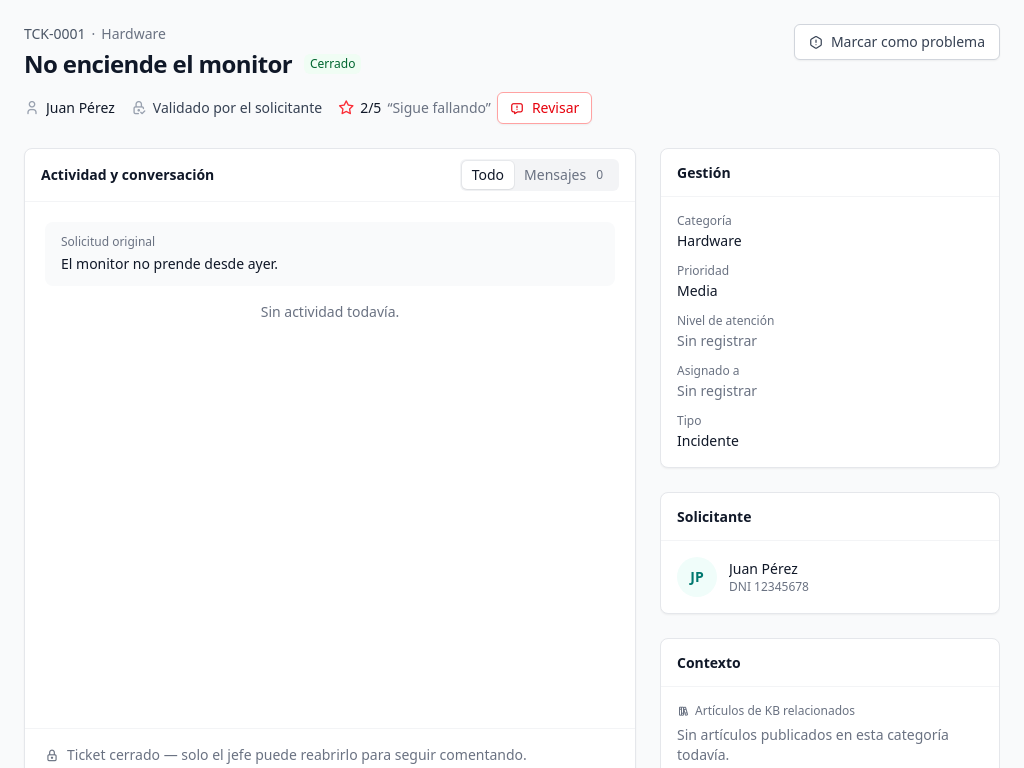
Test: TicketDetalleView.vue — botones migrados a AppButton (Fase 2) › calificación 2/5 sin revisar: «Revisar» abre el diálogo y reabre el ticket con la nota
Click the button "Revisar".
click(545, 108)  # box [497,92,592,124]
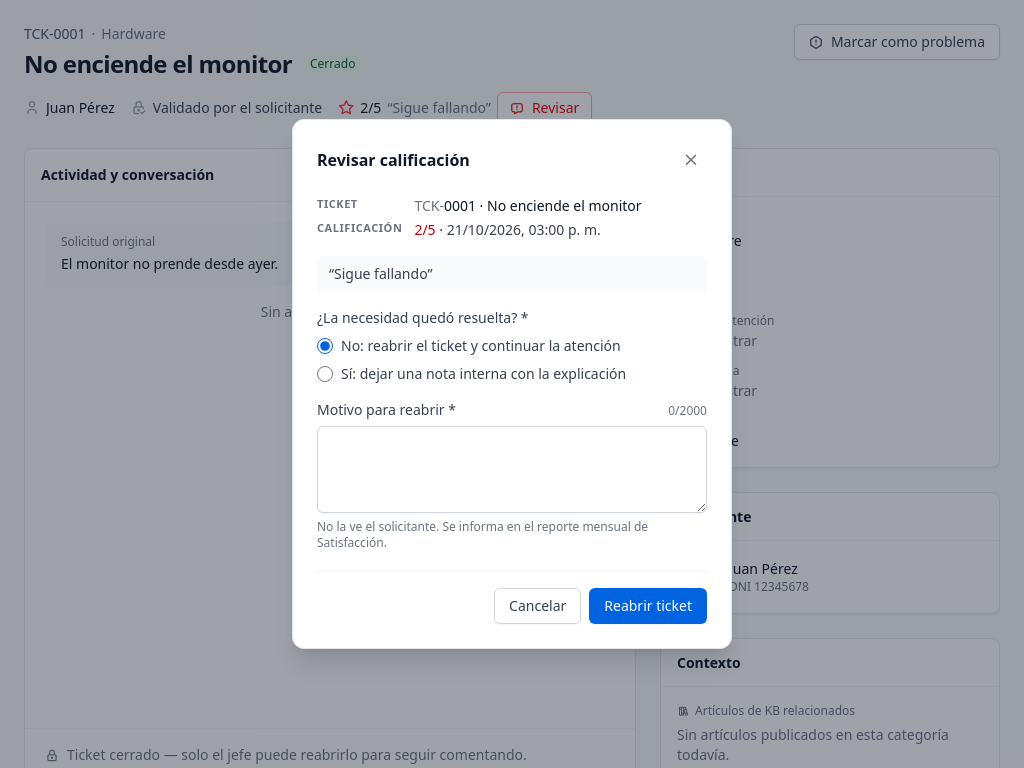
Check: the form with id "revisar-calificacion-form" shows "Sigue fallando", box [329,264,432,283]
Check: the radio button labelled "No: reabrir el ticket y continuar la atención" is checked, box [317,338,333,354]
Type "El monitor vuelve a apagarse: se cambia la fuente" into the text box labelled "Motivo para reabrir * 0/2000".
click(512, 470); type("El monitor vuelve a apagarse: se cambia la fuente")  # box [318,427,706,512]
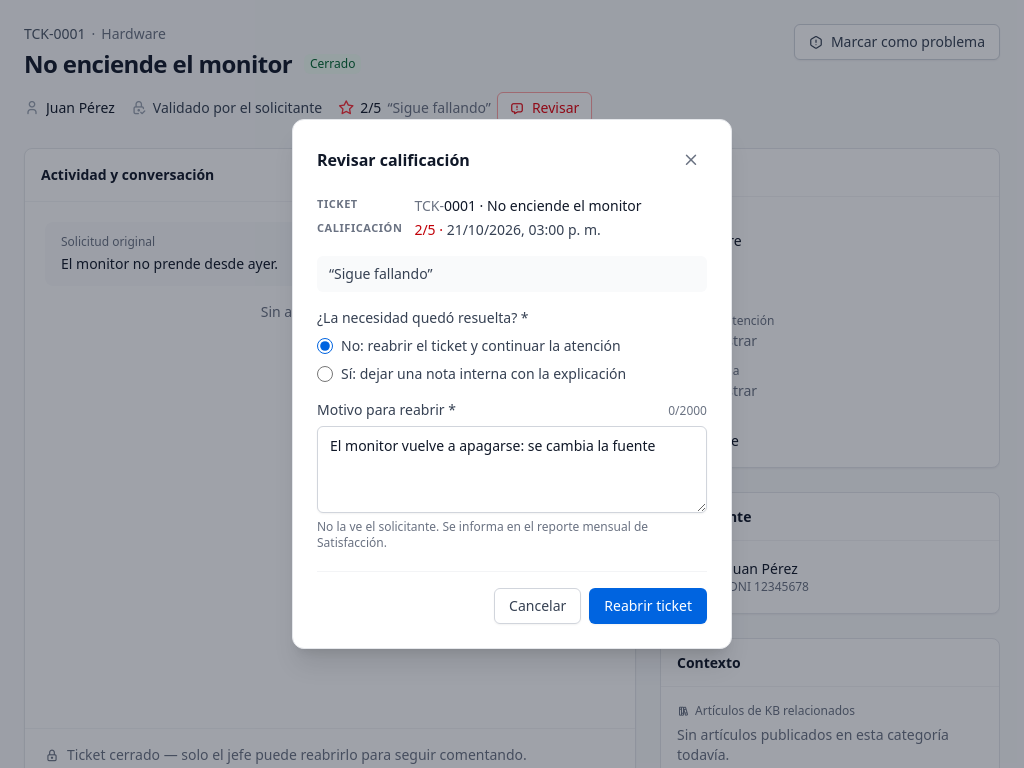
Submit the form with id "revisar-calificacion-form", box [317,196,707,551]
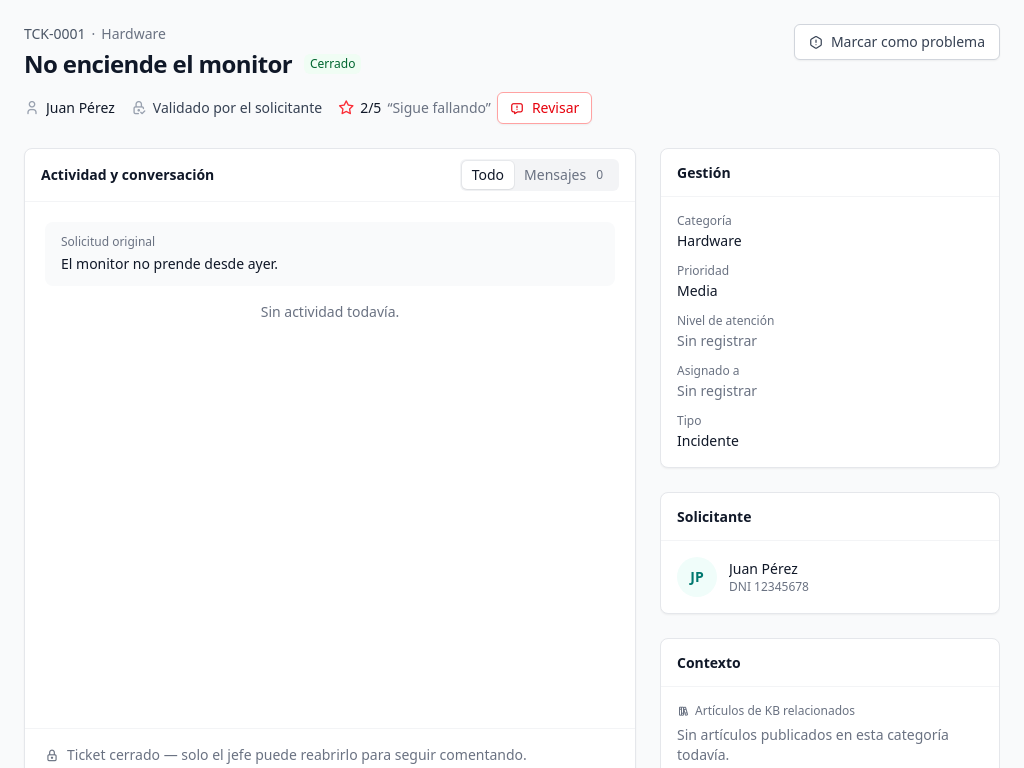
Check: the form with id "revisar-calificacion-form" is gone
